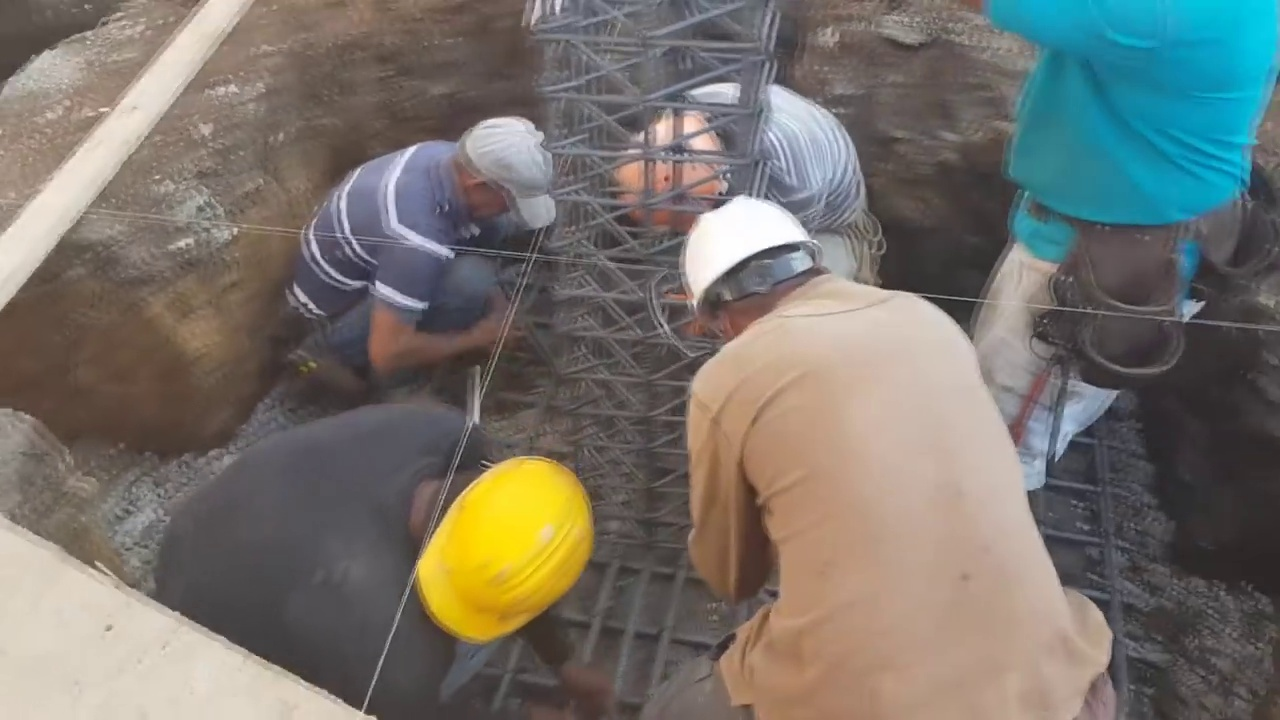helmet: (417, 454, 588, 653), (678, 189, 827, 319), (613, 105, 721, 233)
helmet-off: (444, 112, 556, 231)
helmet-on: (404, 437, 597, 658), (680, 180, 842, 348), (621, 89, 758, 230)
person: (642, 192, 1107, 720), (944, 0, 1280, 514), (145, 396, 593, 699), (277, 110, 567, 388), (620, 75, 888, 285)
